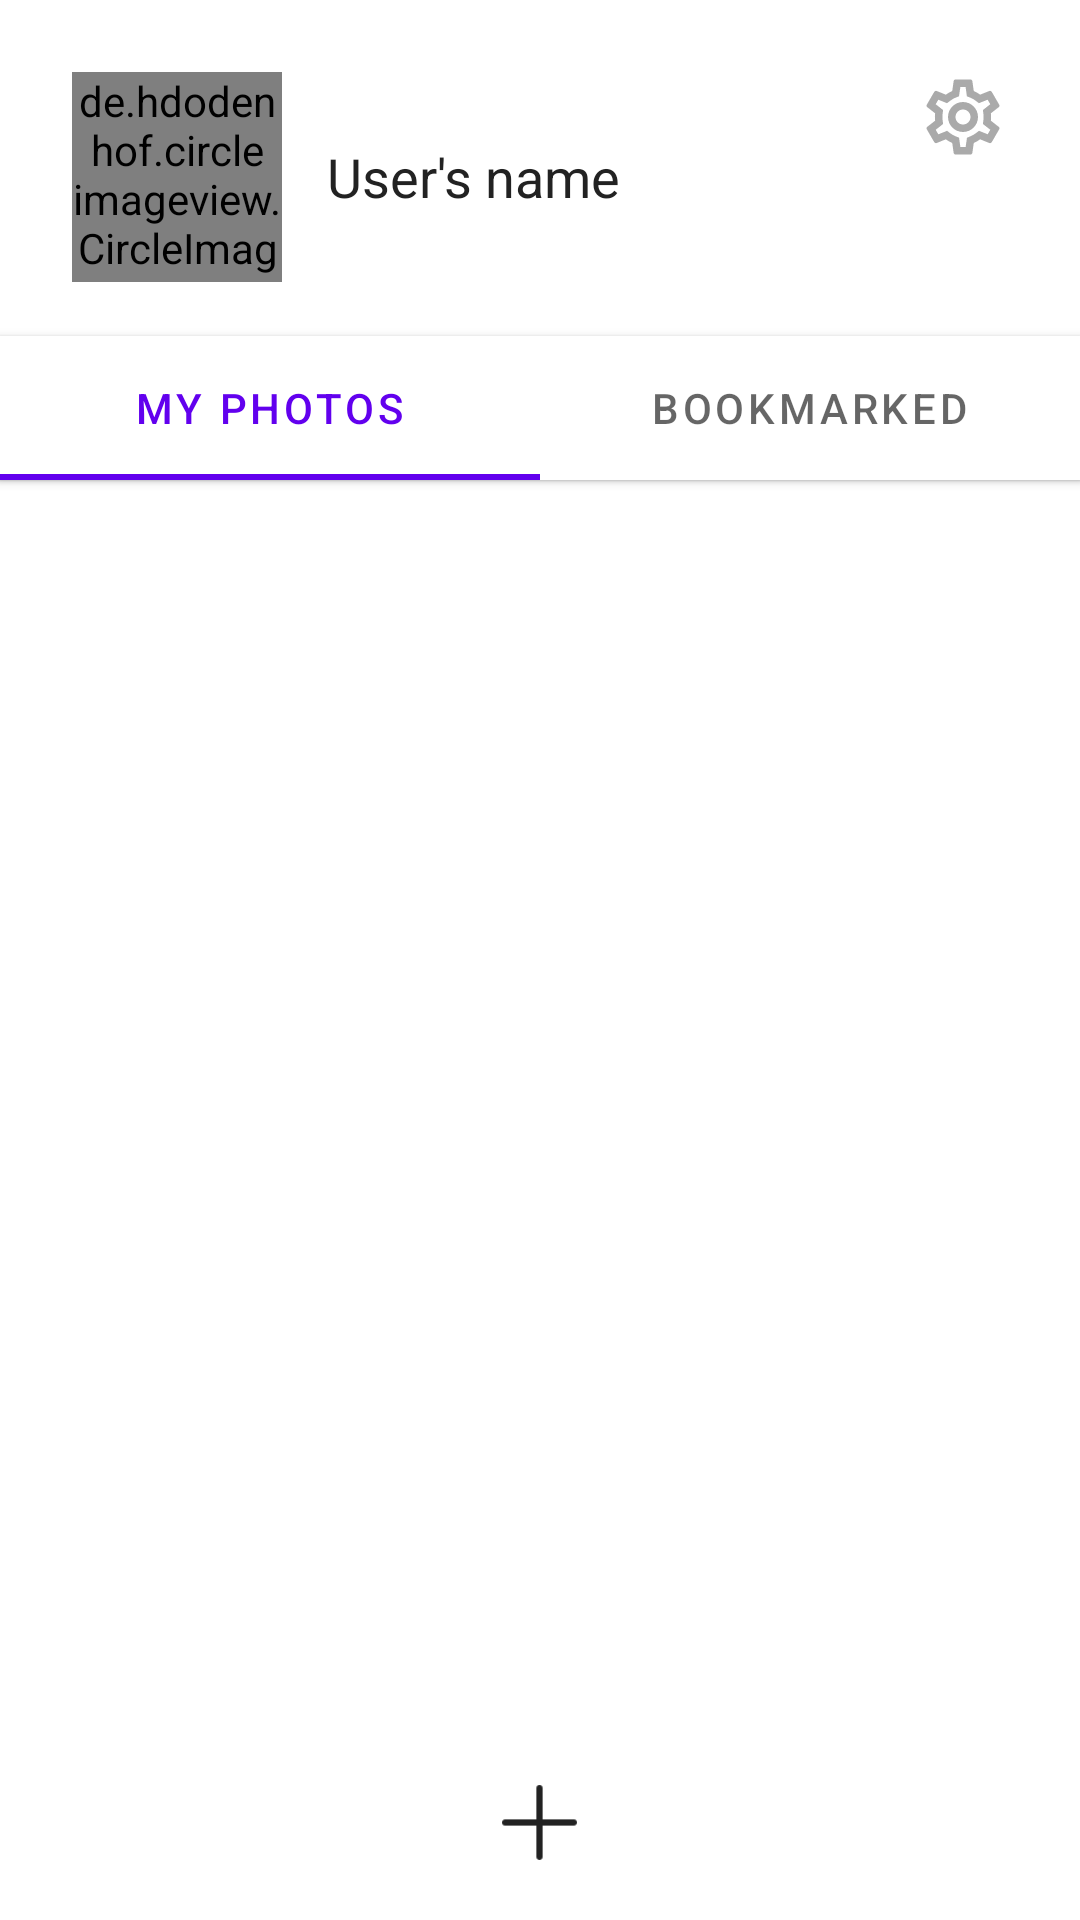

Screen size 1080w x 1920h. Icon name, then its box in pixels as region(x1, y1, x2, y2):
add: region(502, 1785, 577, 1860)
cog: region(926, 79, 1000, 155)
